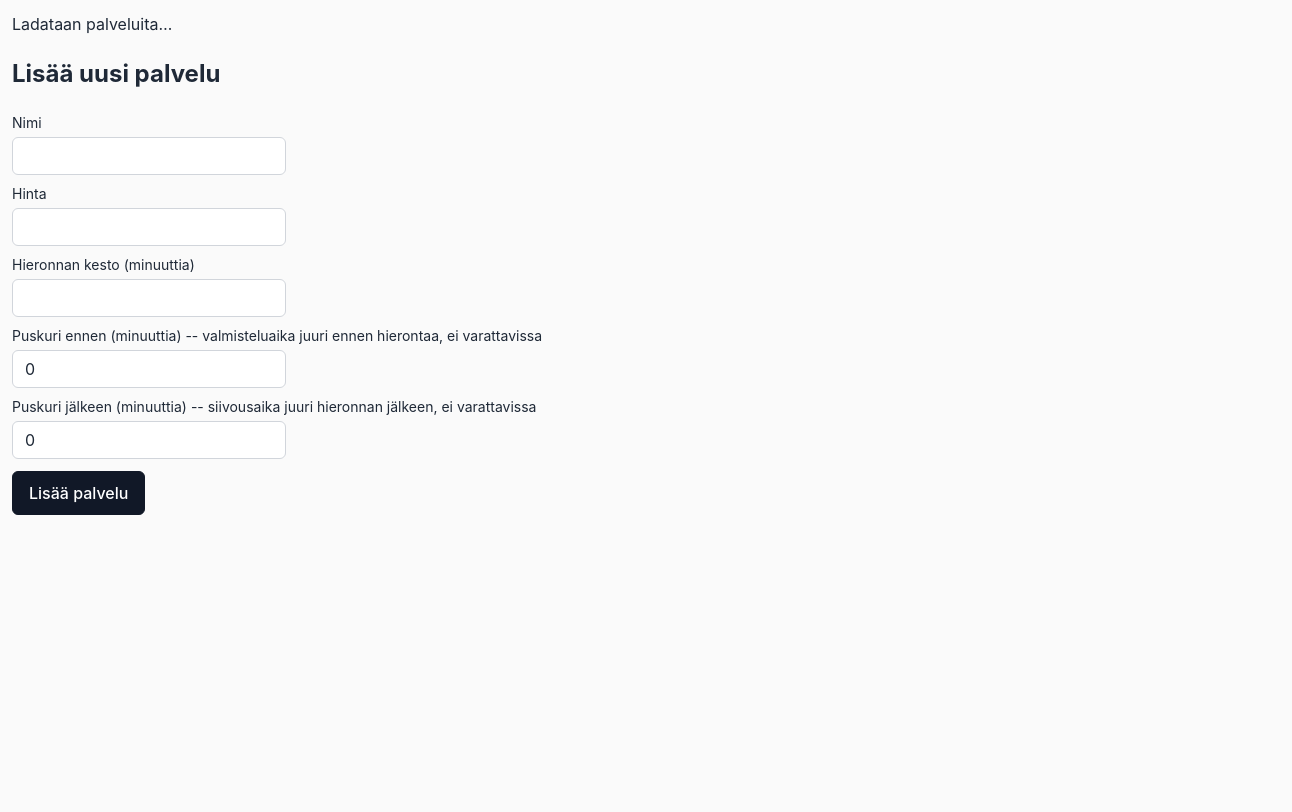
Test: AdminServices › creates a new service, coercing string input values to real numbers before sending
Expected: the element "Lisää uusi palvelu" is shown, x1=12 y1=59 x2=542 y2=515
In the field labelled "Nimi": coordinates (149, 156) x1=12 y1=137 x2=286 y2=175, type "Hot Stone Massage"
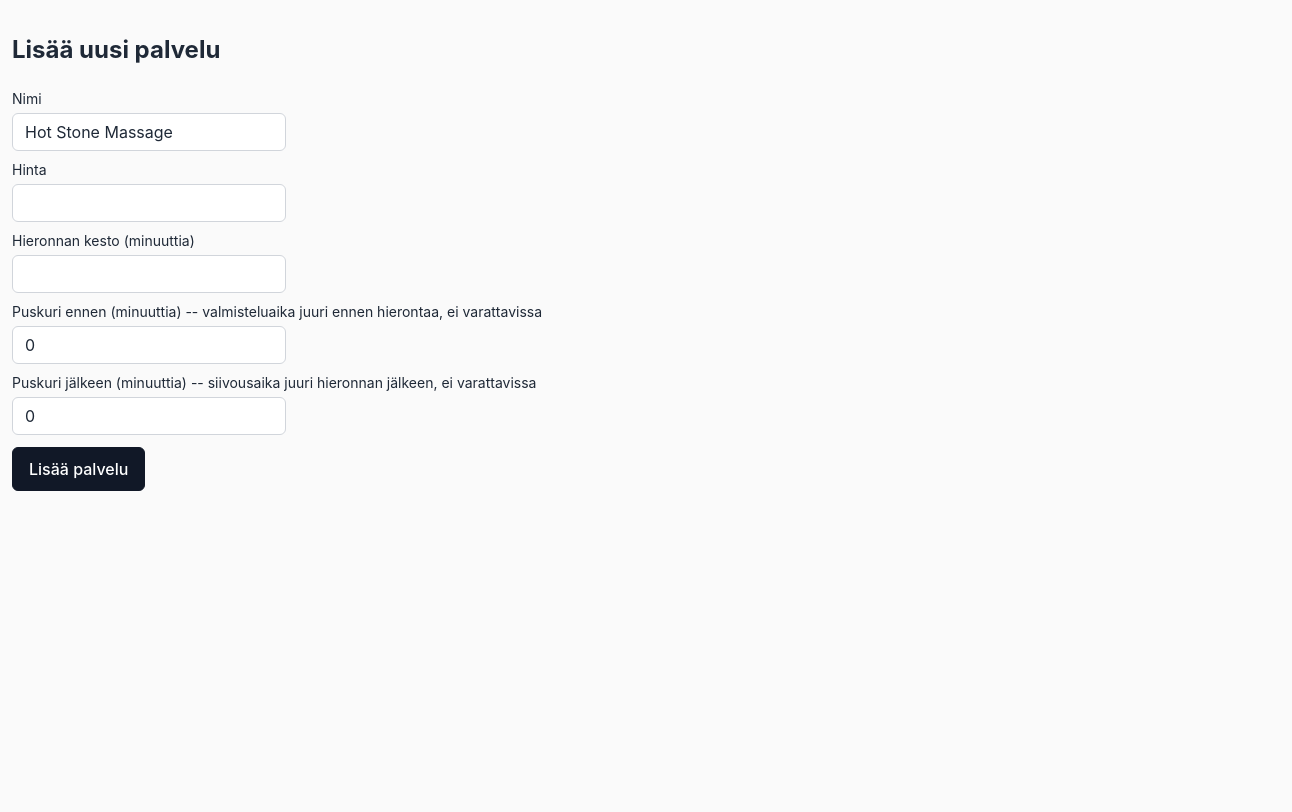
In the number field labelled "Hinta": coordinates (149, 203) x1=12 y1=184 x2=286 y2=222, type "95.50"
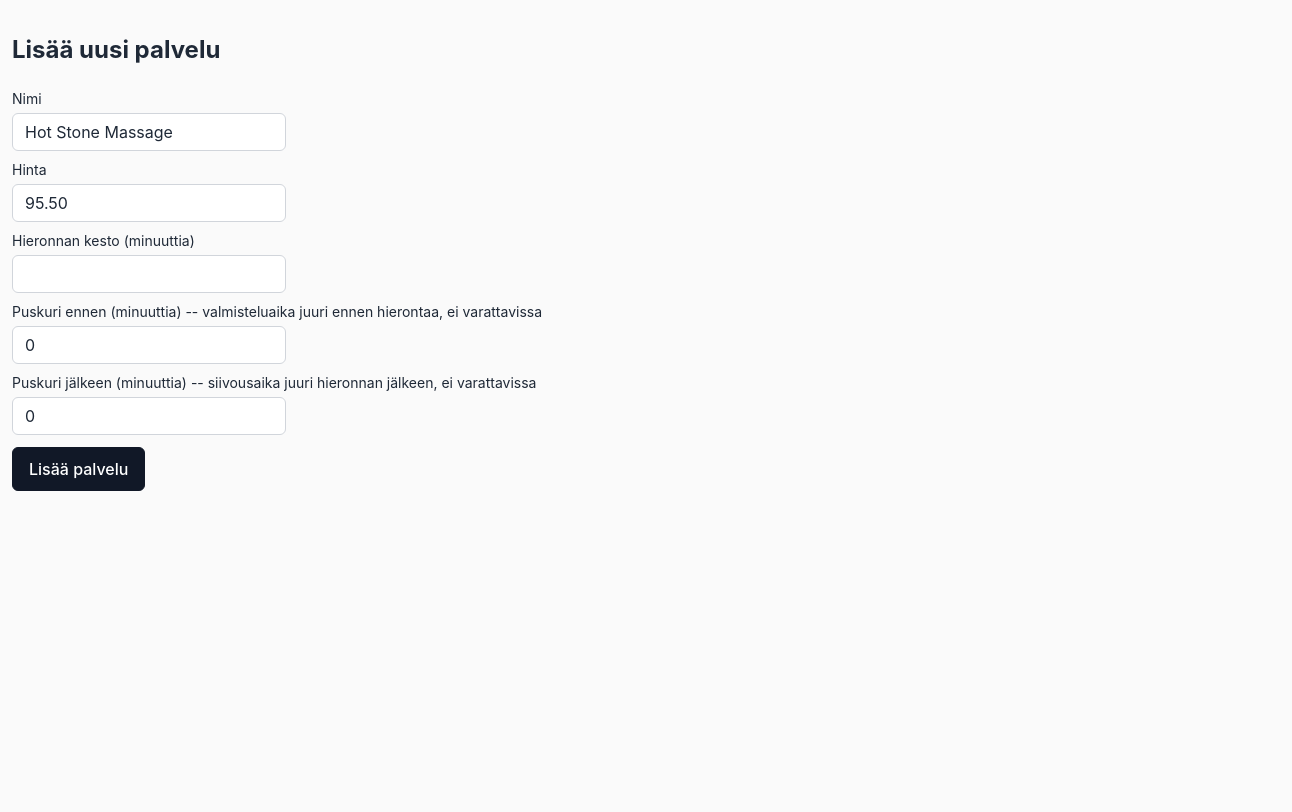
In the number field labelled "Hieronnan kesto (minuuttia)": coordinates (149, 274) x1=12 y1=255 x2=286 y2=293, type "90"
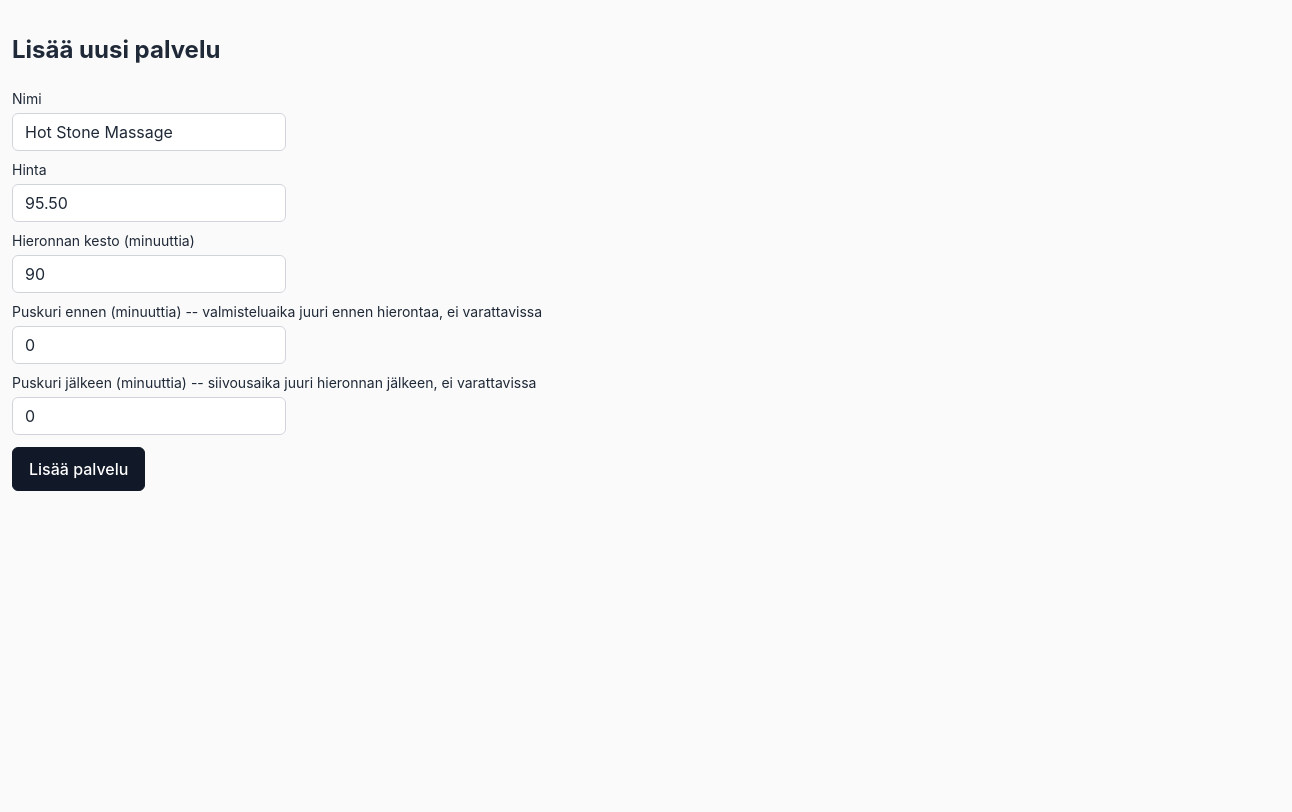
Replace the text in the number field labelled "Puskuri ennen" with "10": coordinates (149, 345) x1=12 y1=326 x2=286 y2=364
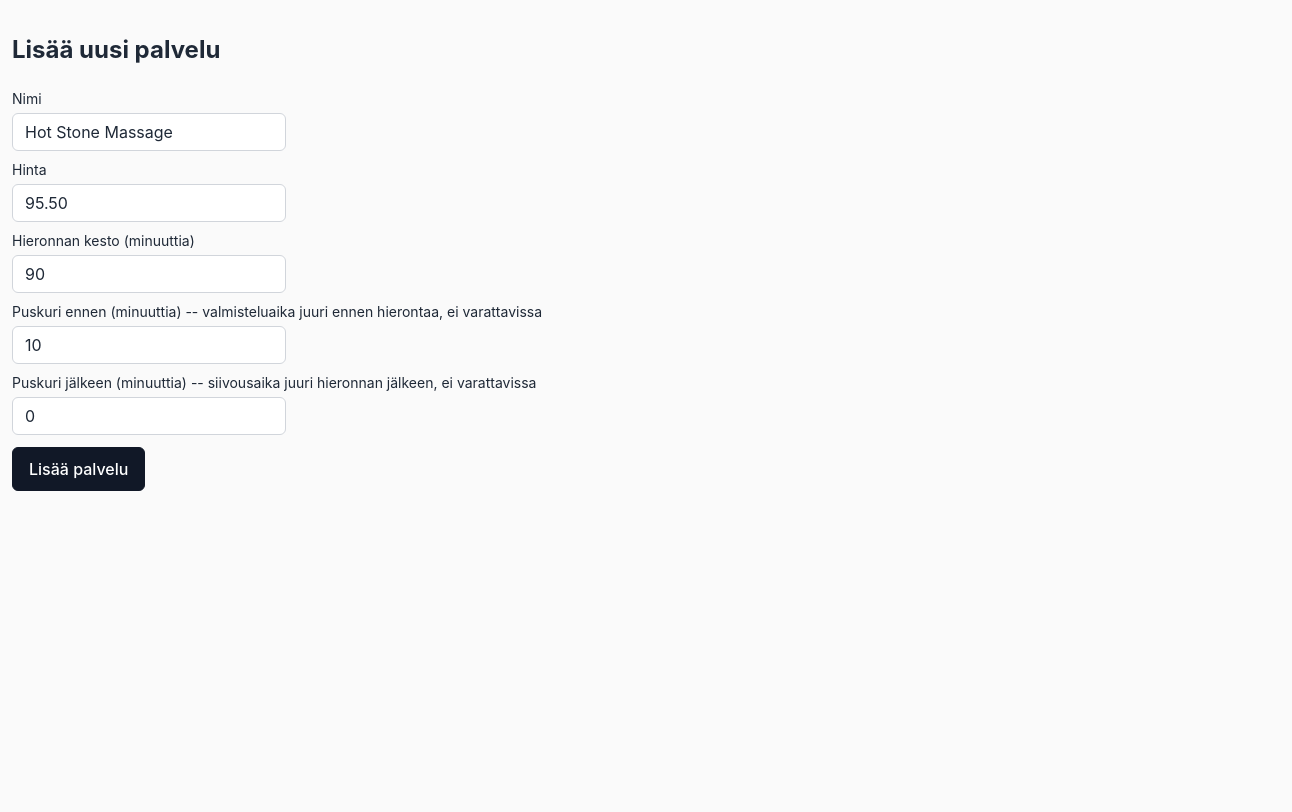
Replace the text in the number field labelled "Puskuri jälkeen" with "15": coordinates (149, 416) x1=12 y1=397 x2=286 y2=435
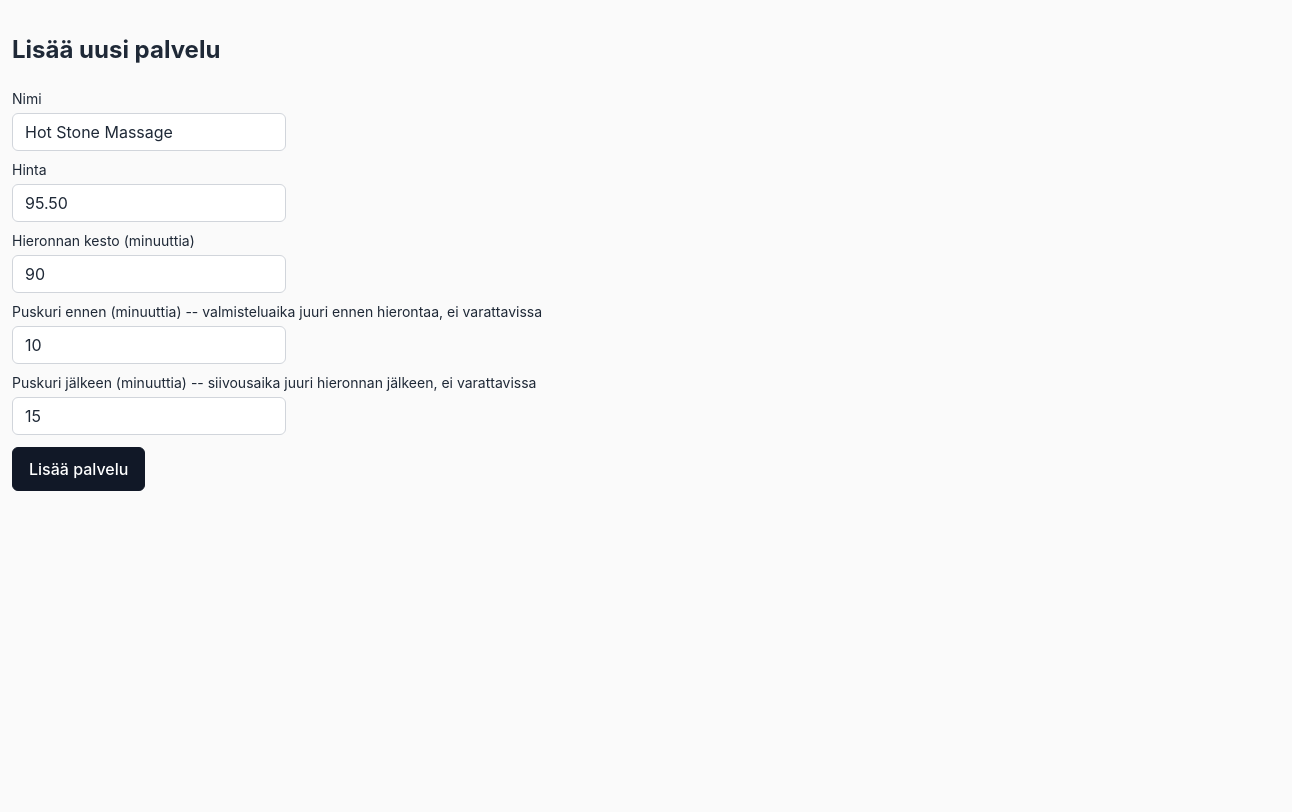
Click the button "Lisää palvelu": coordinates (79, 469) x1=12 y1=447 x2=145 y2=491
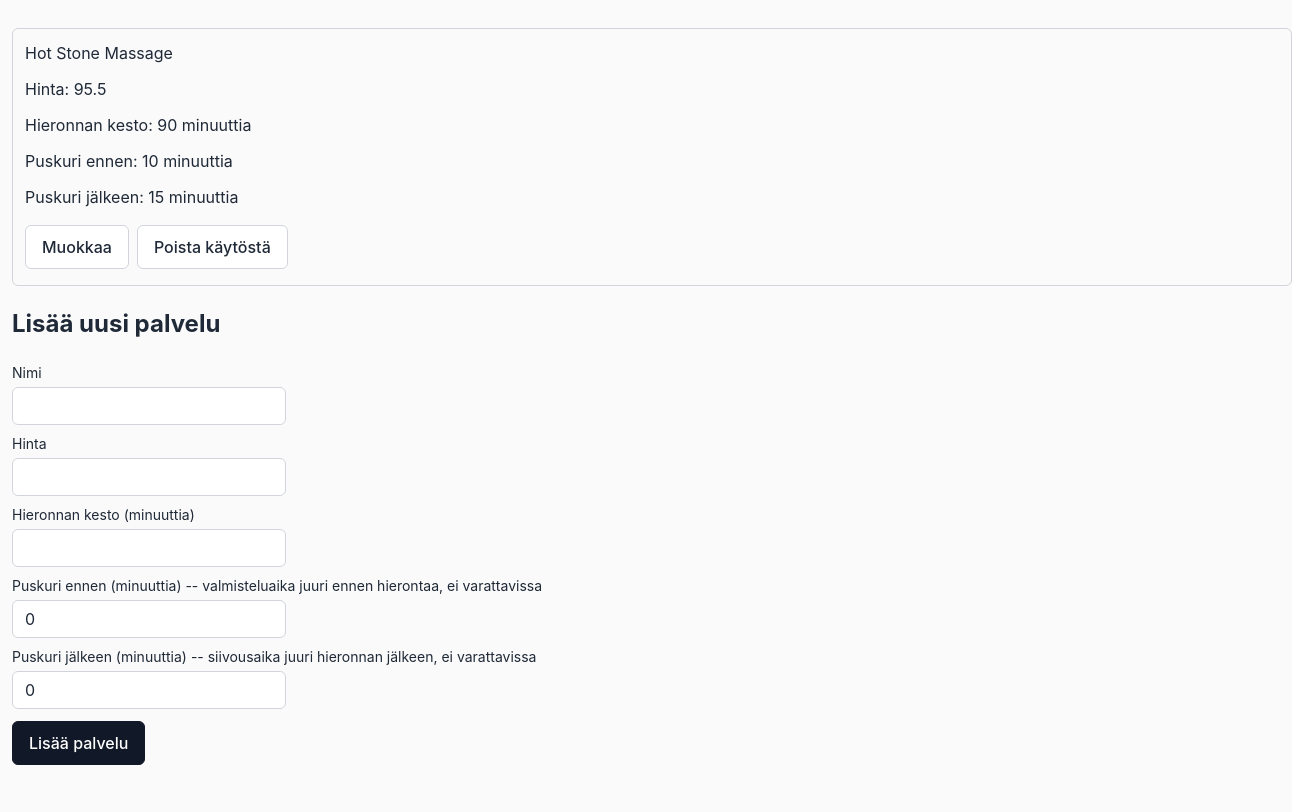
Now the list item with test id "service-new-service" is shown, box x1=12 y1=28 x2=1291 y2=286
